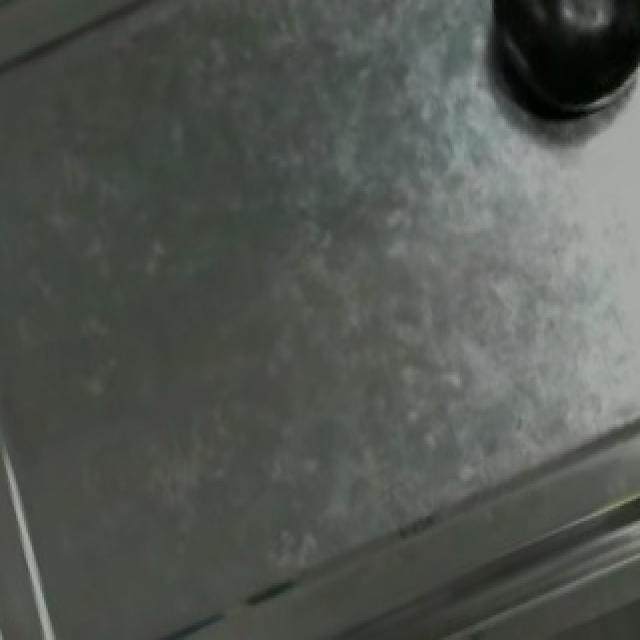Fruit: (476, 0, 640, 139)
